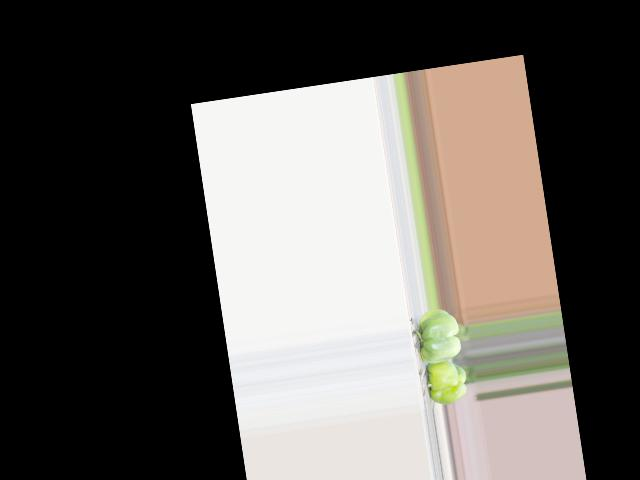bell_pepper: (421, 357, 471, 408)
